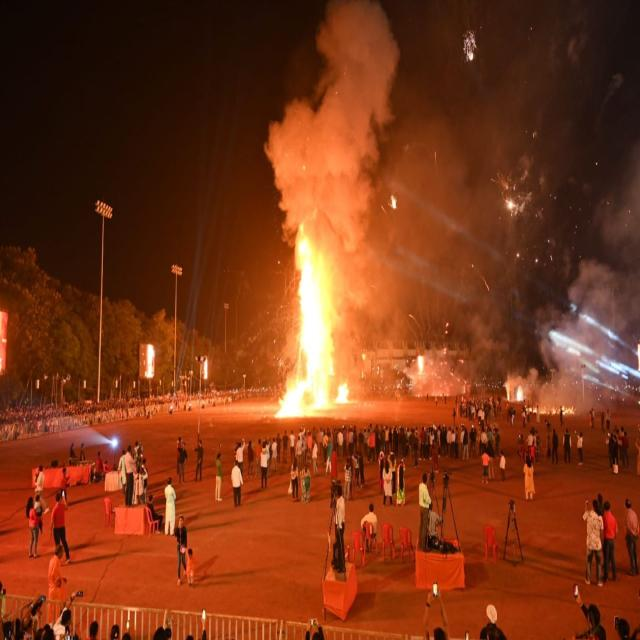fire: (273, 218, 332, 417)
